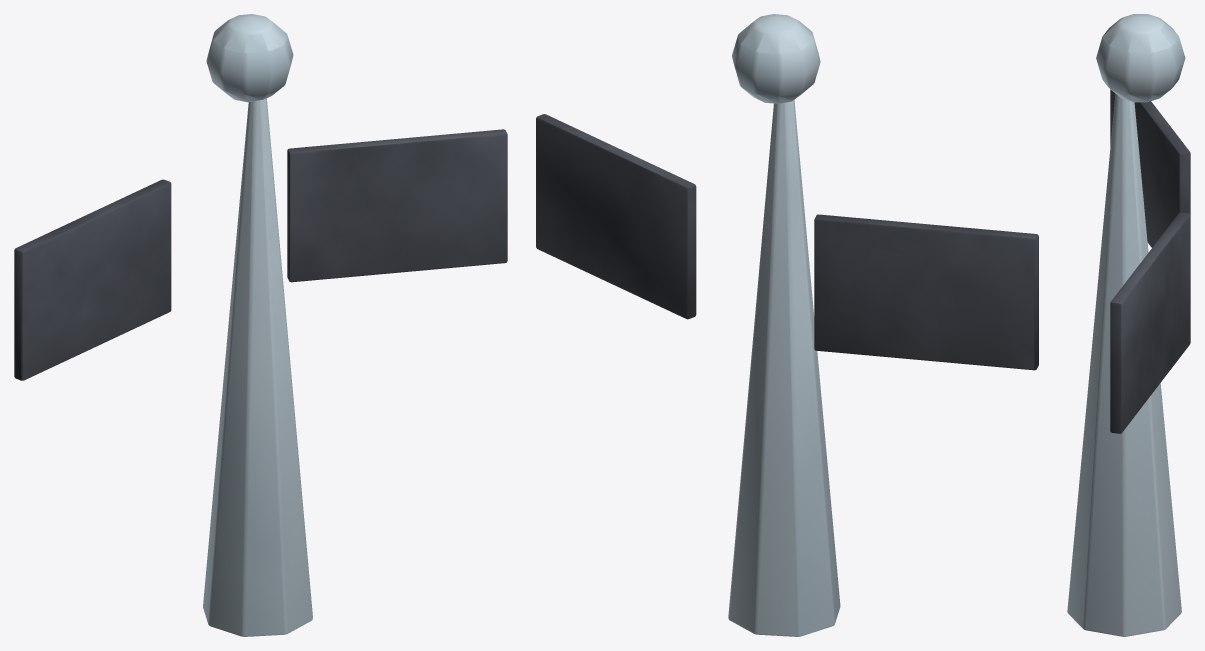
The model's file is unit_veiled_shade.fbx.
3 views of the same model, side by side, from view 1: azimuth 30°, elevation 25°; view 2: azimuth 150°, elevation 25°; view 3: azimuth 270°, elevation 25° (orthographic).
Visible parts, largest first — view 1: unit_veiled_shade; view 2: unit_veiled_shade; view 3: unit_veiled_shade.
Part boxes in pixels (x1,y1,x2,y2): unit_veiled_shade: (14, 14, 507, 636); unit_veiled_shade: (536, 14, 1038, 636); unit_veiled_shade: (1067, 14, 1190, 636).
Bounding box in the file's own units: 1.77 × 2.04 × 0.3823.
